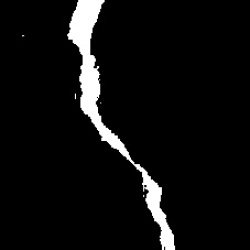crack: (68, 2, 175, 248)
